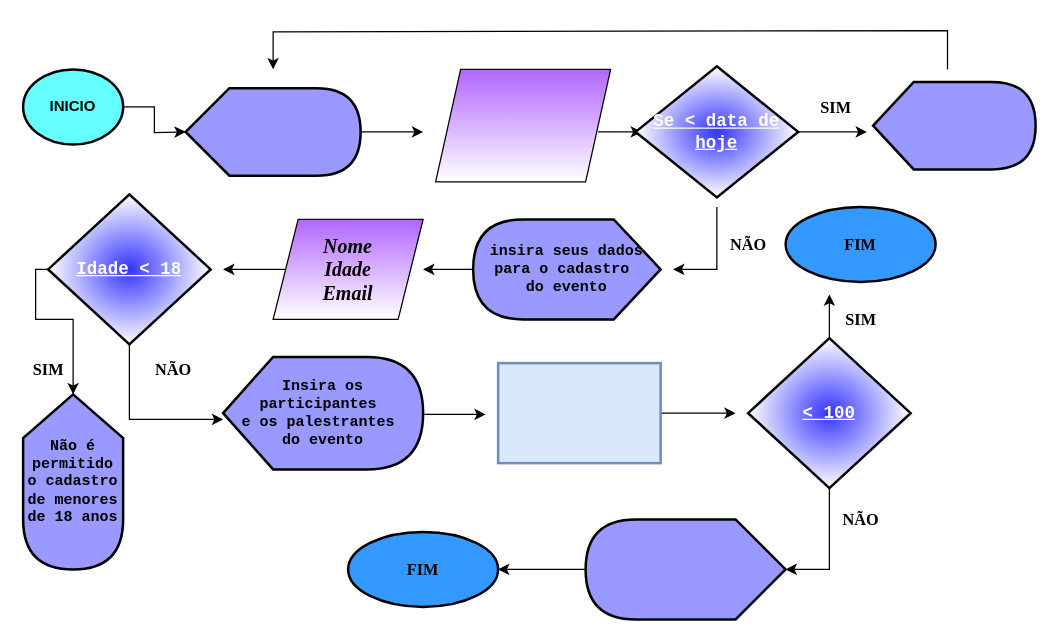
The diagram is 1058 pixels wide and 643 high, and some of its shapes have lost their labels. Each missing label, with the box of its shape:
Contar número de participantes inseridos: (496, 361, 661, 464)
Data: (434, 68, 611, 182)
Data Inválida Insira outra data: (871, 80, 1036, 170)
Data prevista do evento: (184, 86, 361, 176)
Não é permitido o cadastro mais de 100 participantes: (584, 518, 786, 620)
